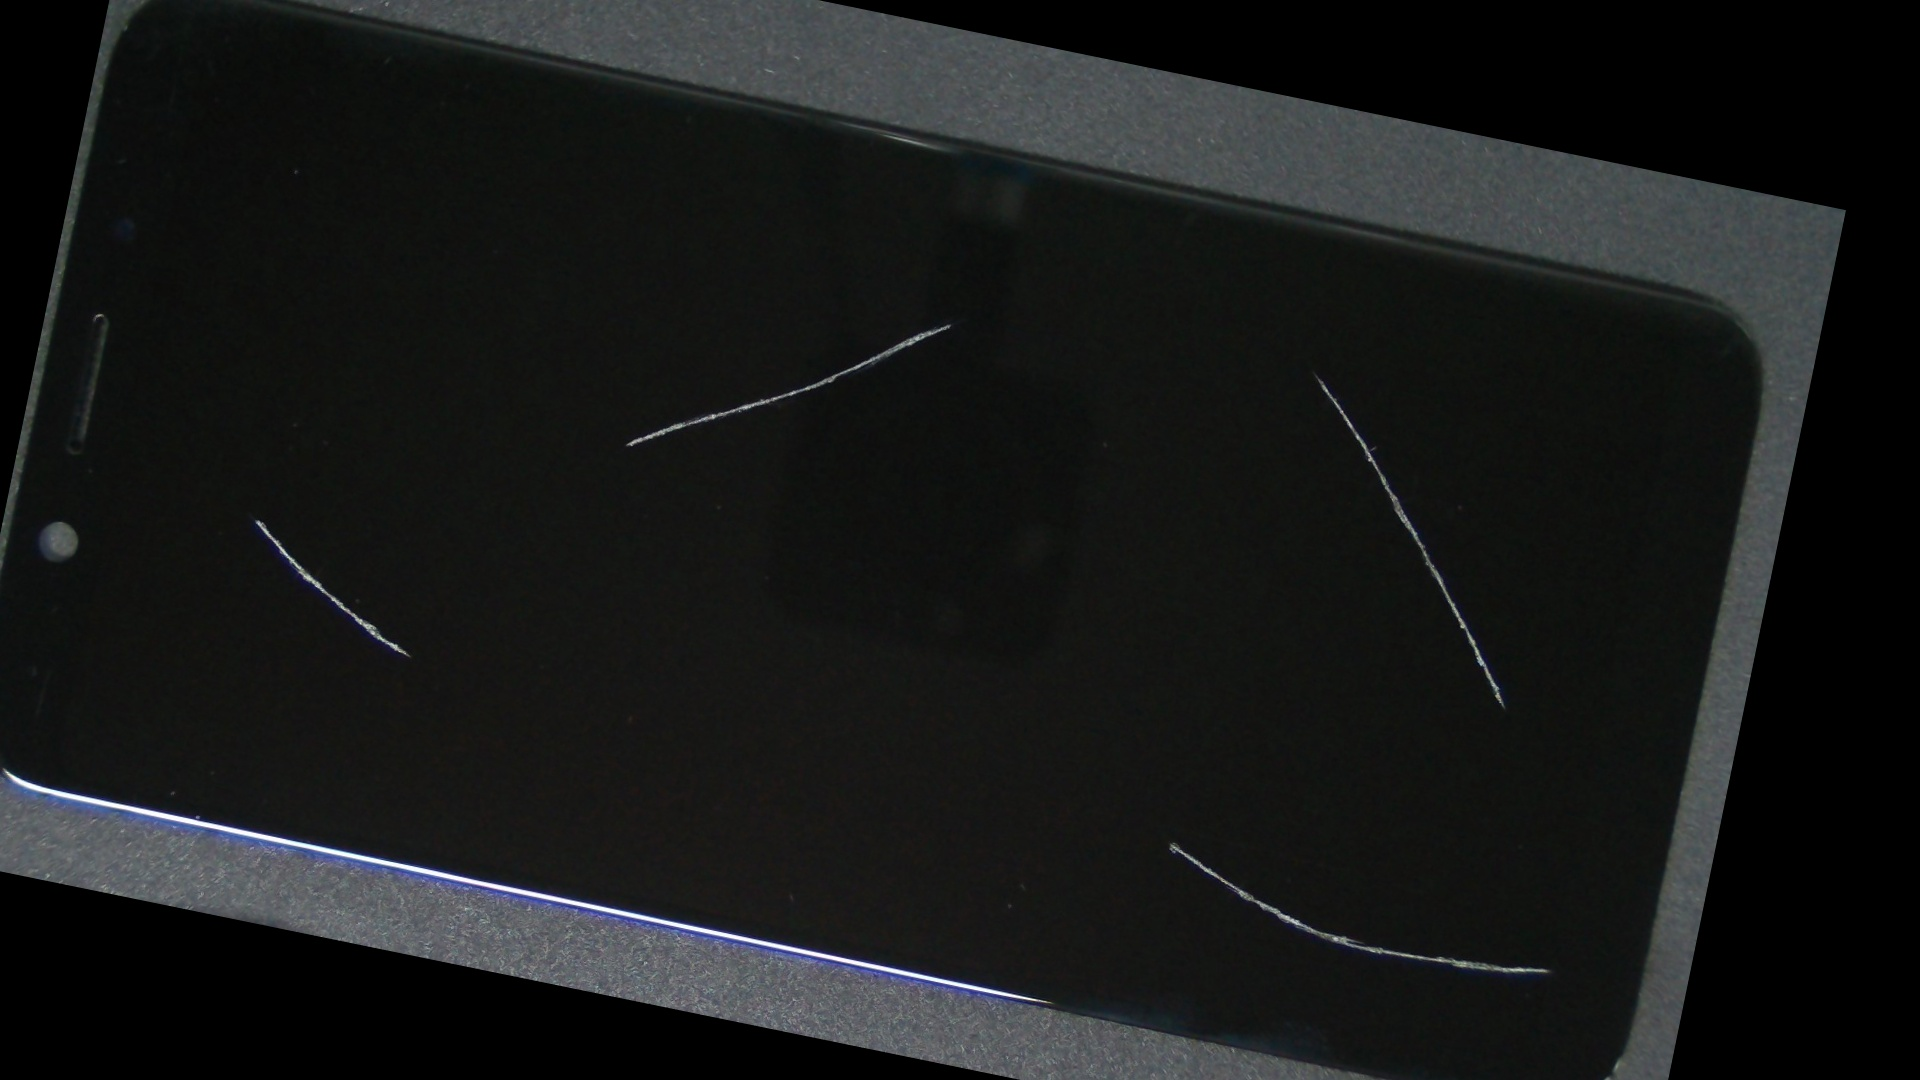oil: (529, 351, 1771, 1080), (673, 116, 1820, 601), (487, 92, 1415, 555), (71, 189, 438, 848)
